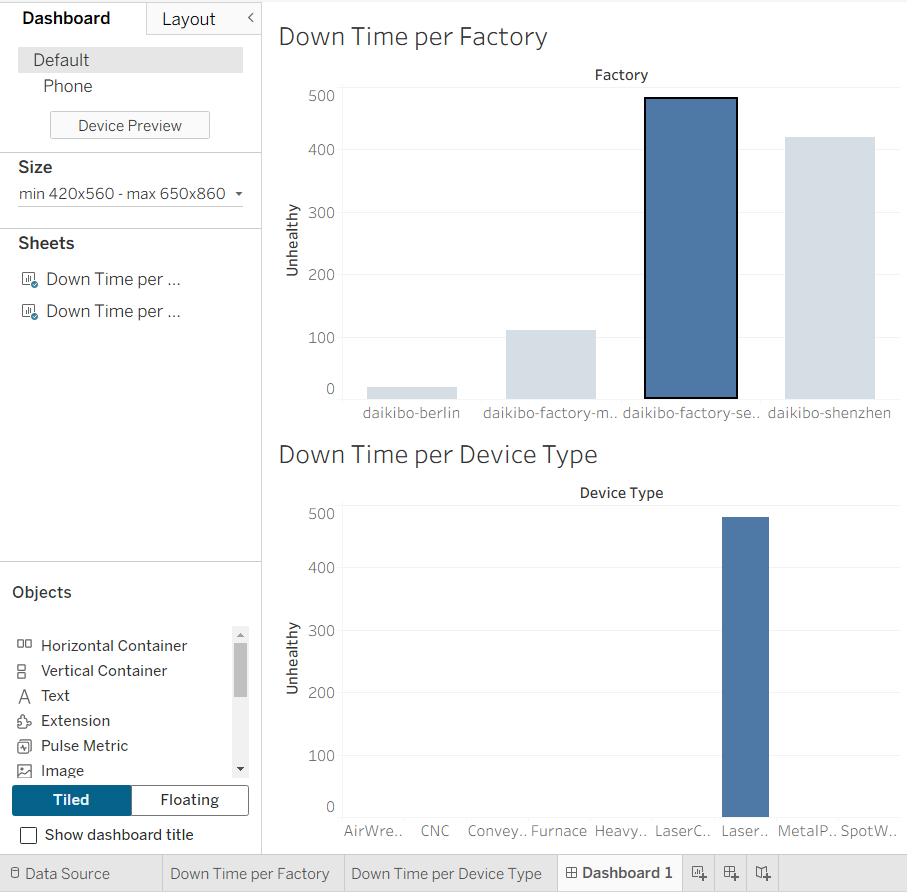

The page's visual inventory and layout, read from the dashboard file:
{"tool":"tableau","page":{"name":"Dashboard 1","canvas":[650,860],"ordinal":0},"visuals":[{"type":"worksheet","title":"Down Time per Factory","mark":"Automatic","rows":["Calculation_1876650750107648"],"cols":["factory"],"box":[8,8.1,634,421.9]},{"type":"worksheet","title":"Down Time per Device Type","mark":"Automatic","rows":["Calculation_1876650750107648"],"cols":["deviceType"],"box":[8,430,634,421.9]}]}

Visuals, with their boxes in screenshot pixels (x1, y1, x2, y2):
"Down Time per Factory" worksheet: region(17, 41, 643, 458)
"Down Time per Device Type" worksheet: region(17, 458, 643, 874)
